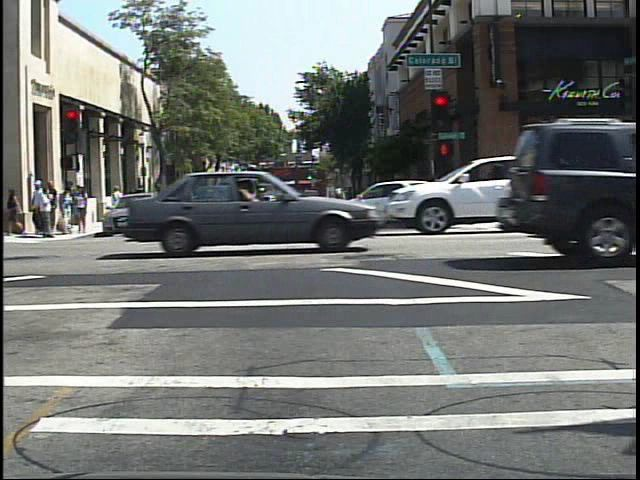person: (106, 179, 126, 226)
